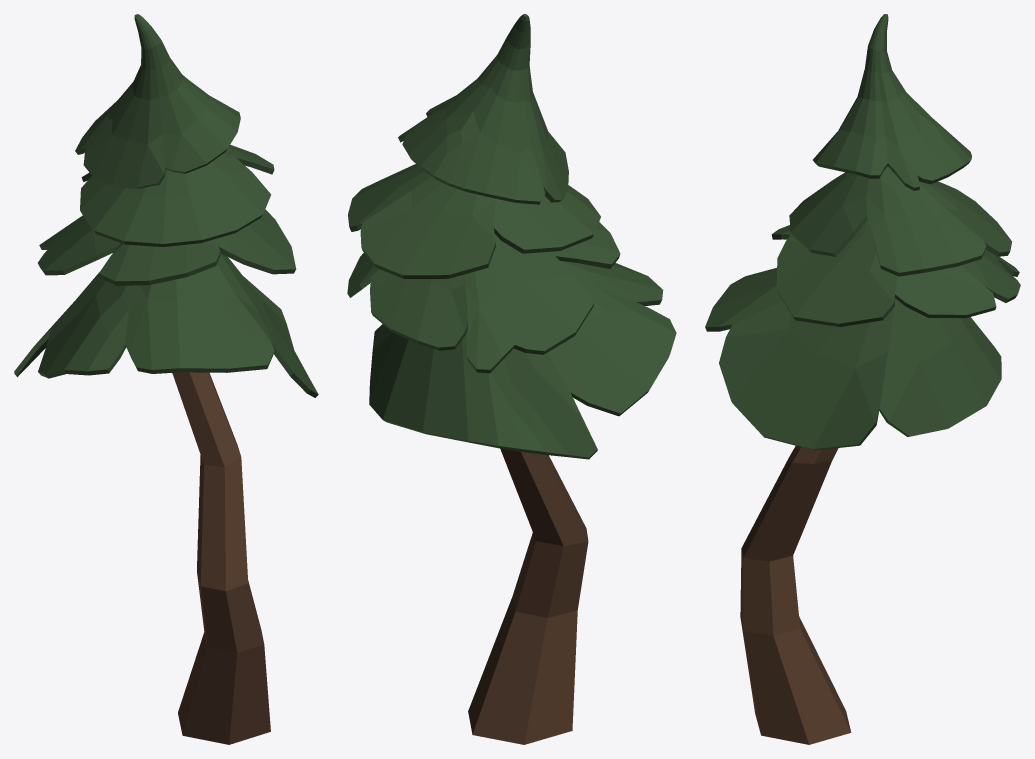
Rendered from pine-DtkCd7Vq.glb.
3 renders of one model, left to right at view 1: azimuth 30°, elevation 25°; view 2: azimuth 150°, elevation 25°; view 3: azimuth 270°, elevation 25°, orthographic. The views are drawn at different scales.
Parts seen in each view (by area): view 1: PineTree_4; view 2: PineTree_4; view 3: PineTree_4.
Part boxes in pixels (x1,y1,x2,y2): PineTree_4: (14,14,318,744); PineTree_4: (347,14,676,744); PineTree_4: (705,14,1020,744).
Bounding box in the file's own units: 1.25 × 3.34 × 1.39.
